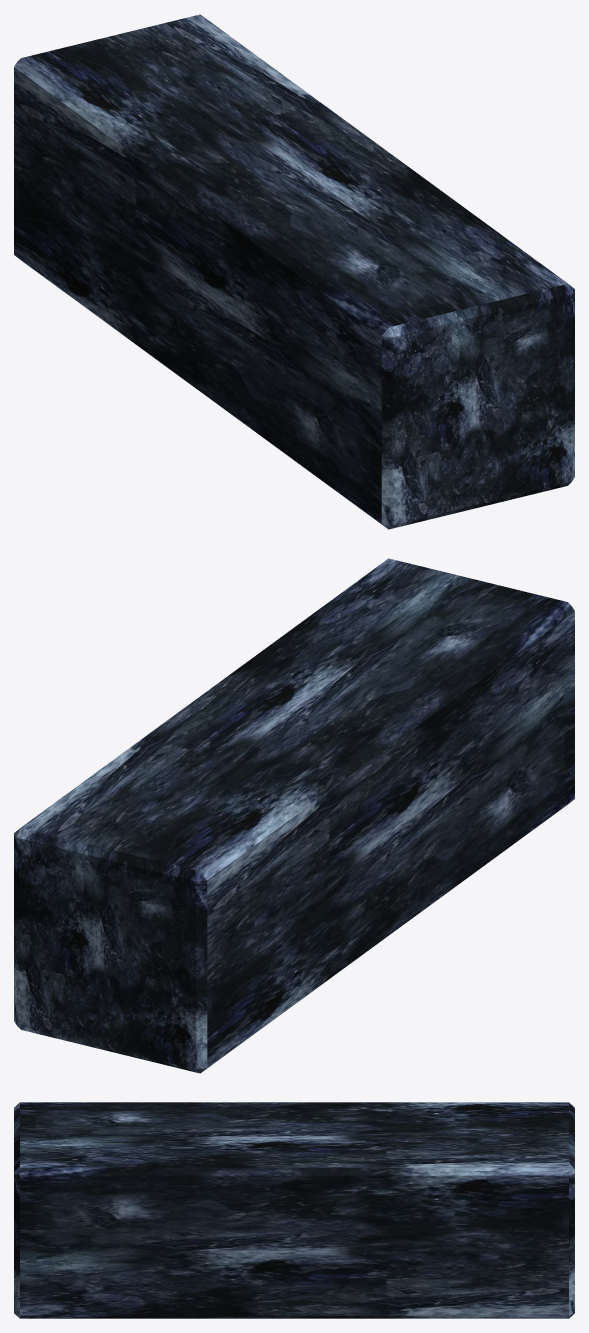
3 views of the same model, one above another, from view 1: azimuth 30°, elevation 25°; view 2: azimuth 150°, elevation 25°; view 3: azimuth 270°, elevation 25° (orthographic). The views are drawn at different scales.
Parts seen in each view (by area): view 1: model_Object99; view 2: model_Object99; view 3: model_Object99.
Part boxes in pixels (x1,y1,x2,y2): model_Object99: (14, 14, 574, 529); model_Object99: (14, 558, 574, 1073); model_Object99: (14, 1102, 574, 1318).
Bounding box in the file's own units: 1.41 × 1.41 × 4.76.
Materials: 1 (1 with a texture image).
